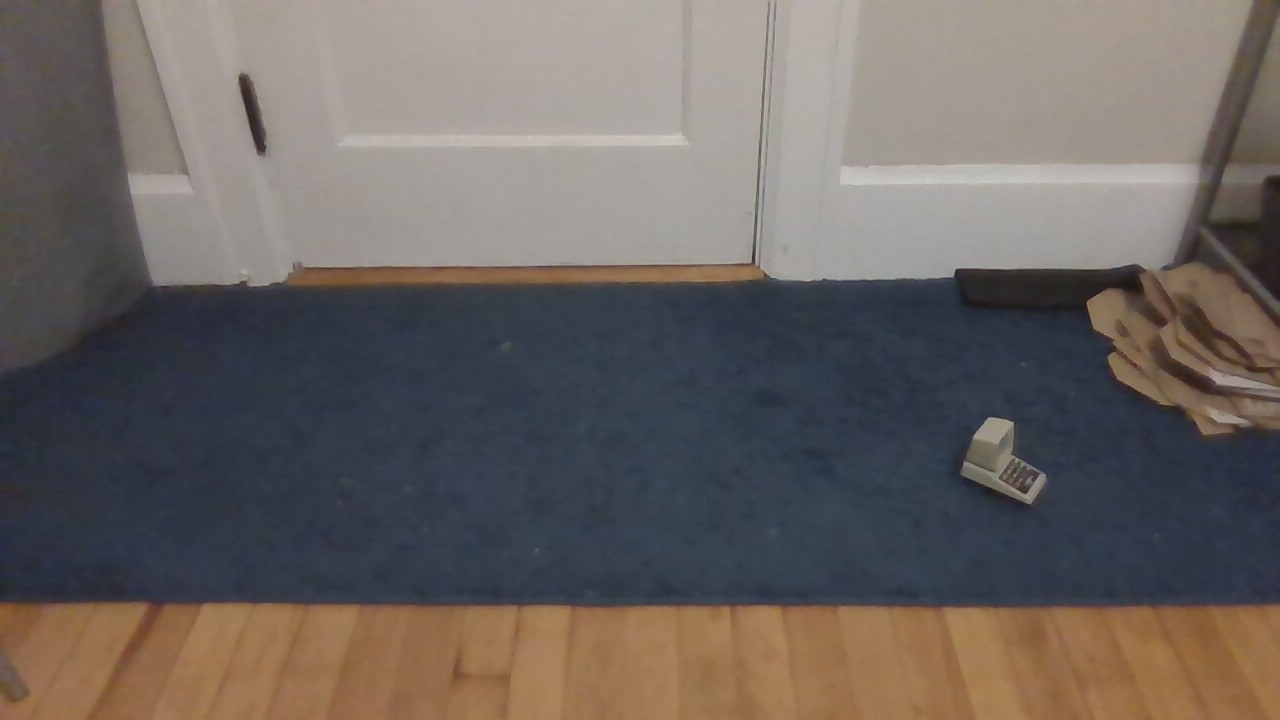Toy: (952, 412, 1057, 531)
